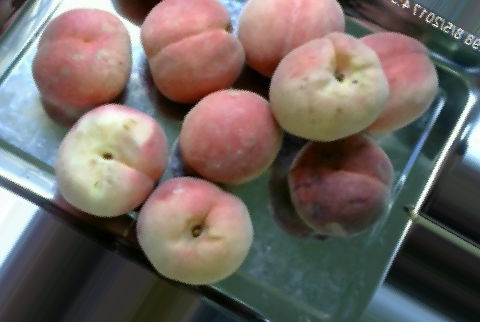Peach: (267, 31, 390, 142), (54, 102, 169, 216), (136, 176, 252, 285), (285, 131, 391, 234), (32, 5, 131, 113), (143, 0, 244, 103), (178, 87, 282, 187), (351, 30, 435, 129)
